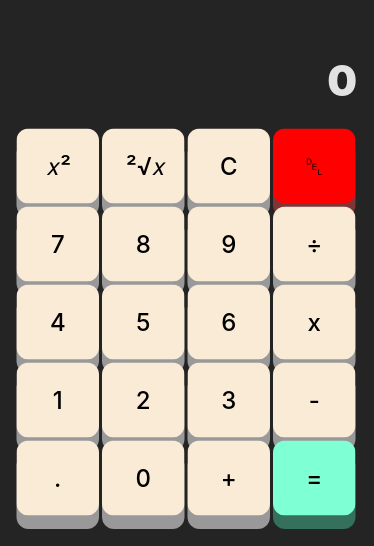
Test case: Keyboard test › should handle negative results
Click the button "5" at (143, 322), box [102,284,184,360]
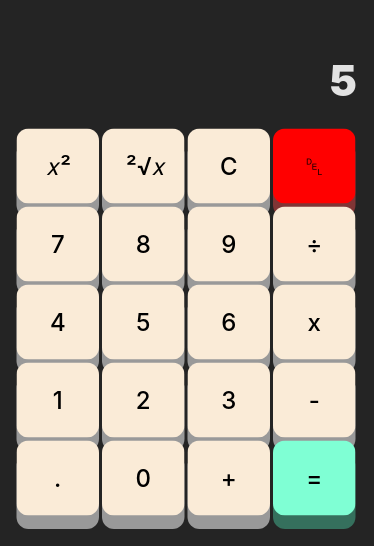
Click the button "-" at (314, 400), box [273,362,356,438]
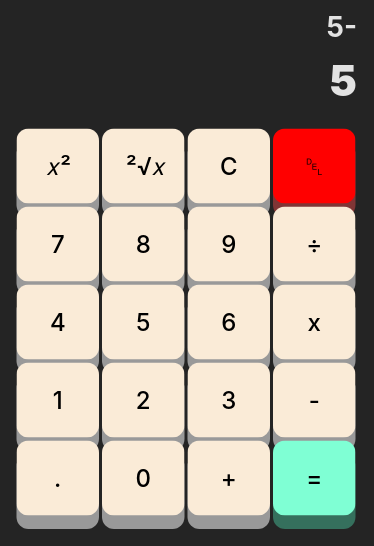
Click the button "8" at (143, 244), box [102,206,184,282]
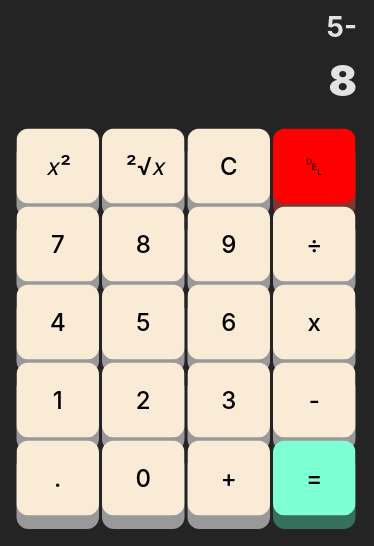
Click the button "=" at (314, 478), box [273,440,356,516]
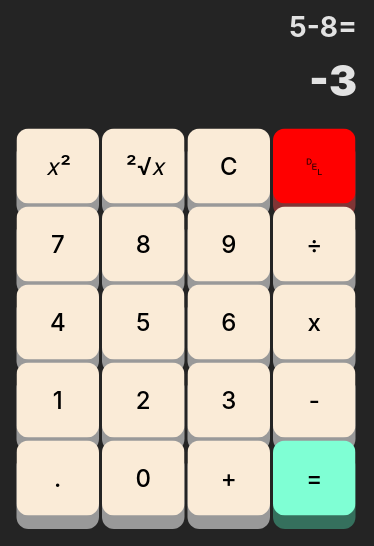
Now the text with test id "mainDisplayVal" reads "-3", box [309,55,357,106]
